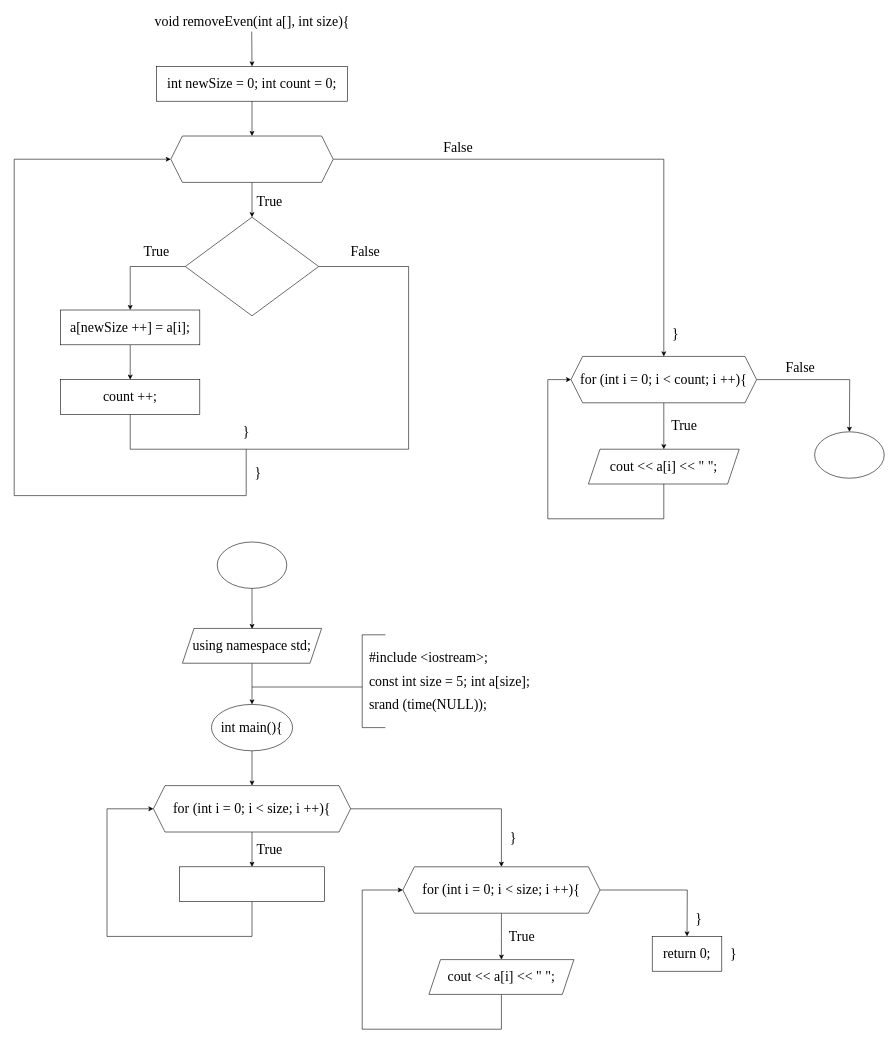
Image size: 894x1044. Some labels were removed from this diagram. Here are the shapes that lost their labels. From the top down, the centre of each, then its label:
At pixel 251 158: "for (int i = 0; i < n; i ++){".
At pixel 252 266: "if (a[i] % 2 != 0){".
At pixel 849 454: "конец;".
At pixel 252 564: "начало".
At pixel 252 884: "a[i] = rand() % 100 + 1;".
